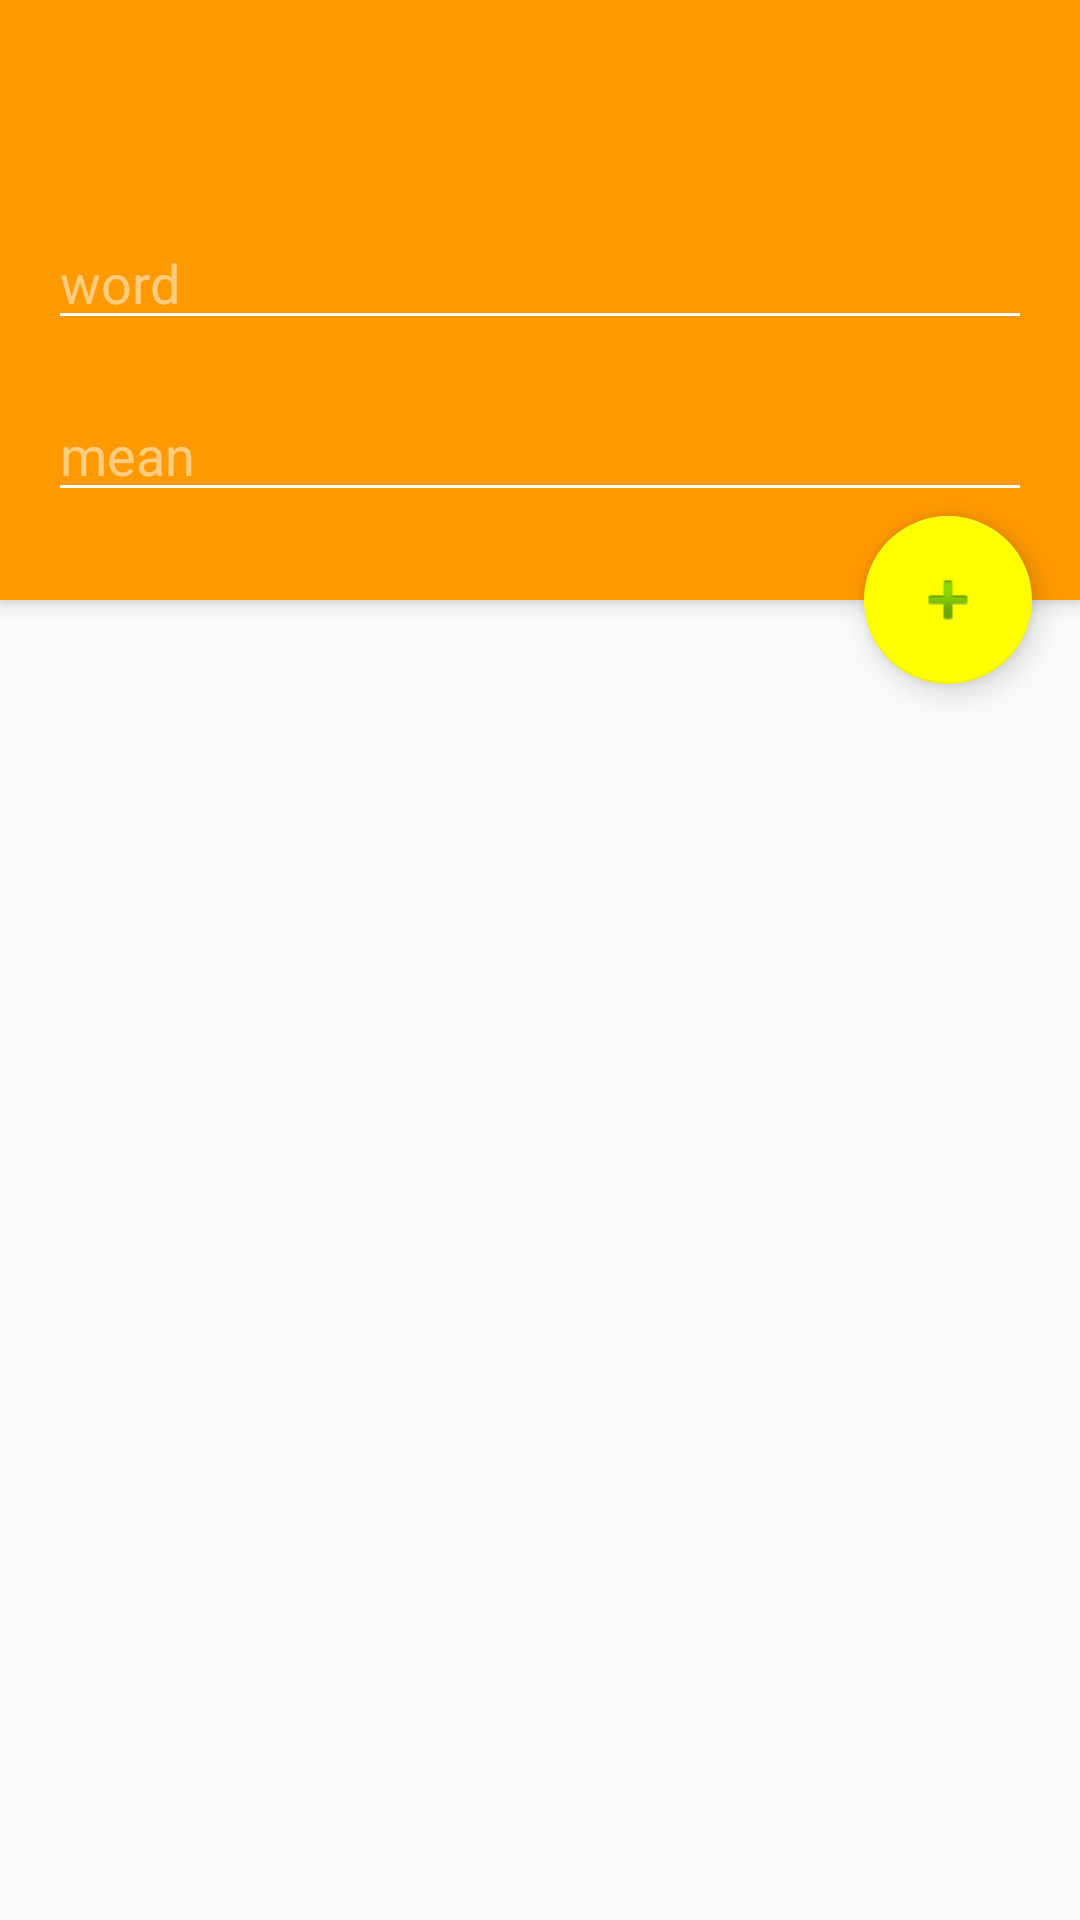

Named icons in this screenshot (1080×1920) and their centers, [x,y]:
add: [948,600]
